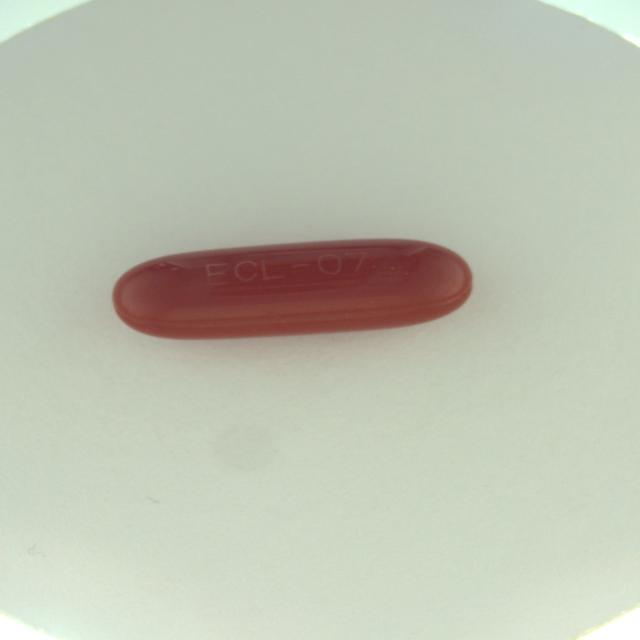Oval: (108, 236, 475, 341)
